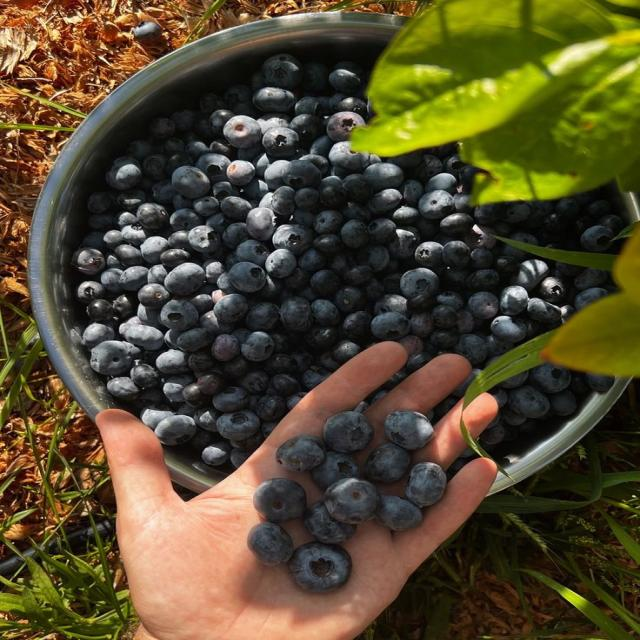blueberry: (288, 542, 352, 592), (324, 478, 379, 524), (254, 478, 306, 523), (304, 501, 356, 543), (384, 410, 433, 450), (247, 523, 293, 565), (311, 451, 361, 489), (406, 462, 446, 507), (365, 443, 410, 482), (276, 436, 325, 471), (375, 494, 422, 530), (261, 54, 305, 89), (90, 341, 132, 376), (508, 385, 550, 418), (164, 263, 205, 296), (328, 141, 369, 173), (272, 224, 313, 255), (154, 415, 196, 445), (223, 115, 261, 148), (529, 364, 571, 393), (217, 410, 259, 439), (172, 166, 210, 198), (160, 300, 199, 330), (280, 296, 312, 332), (363, 163, 404, 191), (261, 127, 299, 157), (400, 268, 439, 297), (282, 160, 321, 189), (229, 262, 266, 292), (327, 112, 365, 141), (371, 312, 410, 340), (454, 334, 488, 365), (514, 259, 548, 290), (418, 190, 454, 219), (253, 87, 295, 111), (214, 293, 248, 322), (245, 302, 279, 331), (241, 331, 273, 361), (125, 325, 164, 349), (176, 327, 213, 352), (187, 225, 220, 253), (467, 292, 501, 319), (491, 316, 526, 342), (213, 387, 249, 412), (72, 248, 105, 275), (527, 298, 561, 324), (580, 225, 614, 251), (500, 286, 529, 316), (265, 249, 296, 277), (342, 174, 373, 202), (334, 286, 366, 313), (573, 287, 610, 310), (440, 213, 474, 237), (539, 277, 568, 305), (340, 220, 368, 249), (83, 323, 114, 349), (156, 349, 188, 374), (140, 405, 173, 429), (255, 396, 286, 421), (107, 377, 140, 400), (311, 299, 339, 326), (343, 311, 371, 338), (414, 241, 442, 268), (442, 240, 470, 267), (548, 389, 577, 415), (367, 218, 396, 244), (201, 441, 231, 466), (374, 294, 408, 316), (212, 334, 239, 361), (119, 266, 148, 291), (574, 268, 606, 290), (240, 370, 269, 394), (466, 270, 499, 291), (425, 173, 457, 194), (331, 341, 360, 364), (432, 304, 457, 329), (429, 329, 459, 349), (585, 373, 614, 393), (470, 247, 493, 269), (230, 449, 250, 468)
